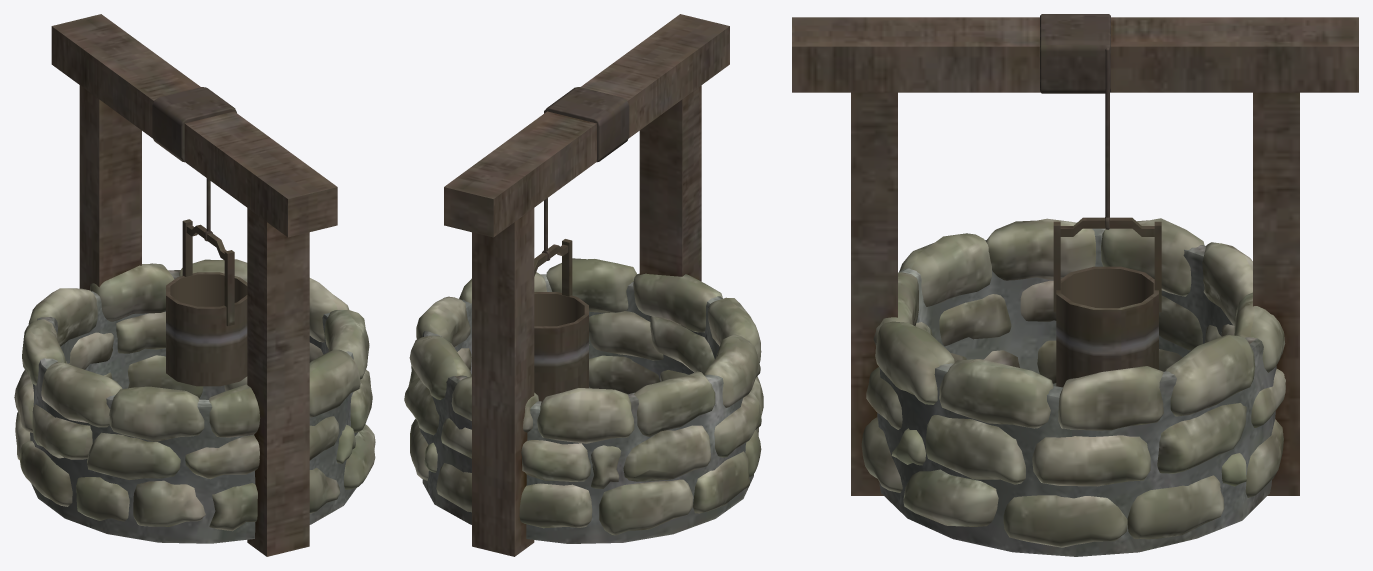
Rendered from t_pozo_piedra.glb.
3 renders of one model, left to right at view 1: azimuth 30°, elevation 25°; view 2: azimuth 150°, elevation 25°; view 3: azimuth 270°, elevation 25°, orthographic. The views are drawn at different scales.
Parts seen in each view (by area): view 1: Finished_Water_Well_lambert1_0; view 2: Finished_Water_Well_lambert1_0; view 3: Finished_Water_Well_lambert1_0.
Boxes of the visible parts, x1=… form: Finished_Water_Well_lambert1_0: x1=14, y1=14, x2=375, y2=556; Finished_Water_Well_lambert1_0: x1=404, y1=14, x2=763, y2=556; Finished_Water_Well_lambert1_0: x1=792, y1=14, x2=1358, y2=556.
Size of the model in its own units: 2.78 by 3.2 by 3.6.
1 material, 1 textured.
